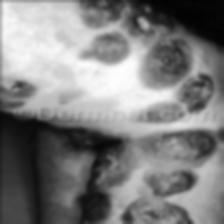Potentially Malignant Skin Tumors: (121, 142, 214, 224), (49, 6, 143, 86), (159, 47, 222, 109), (58, 128, 112, 158), (0, 76, 30, 97)
